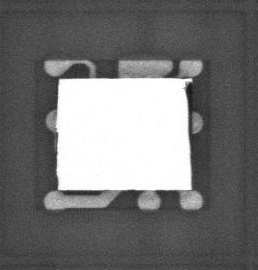DIE_BROKEN: (183, 81, 192, 171), (55, 129, 62, 190)
